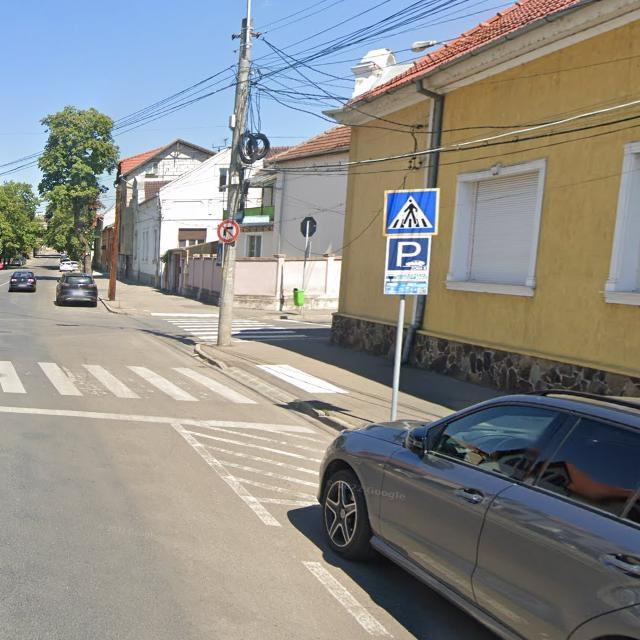info_crosswalk: (383, 188, 440, 236)
